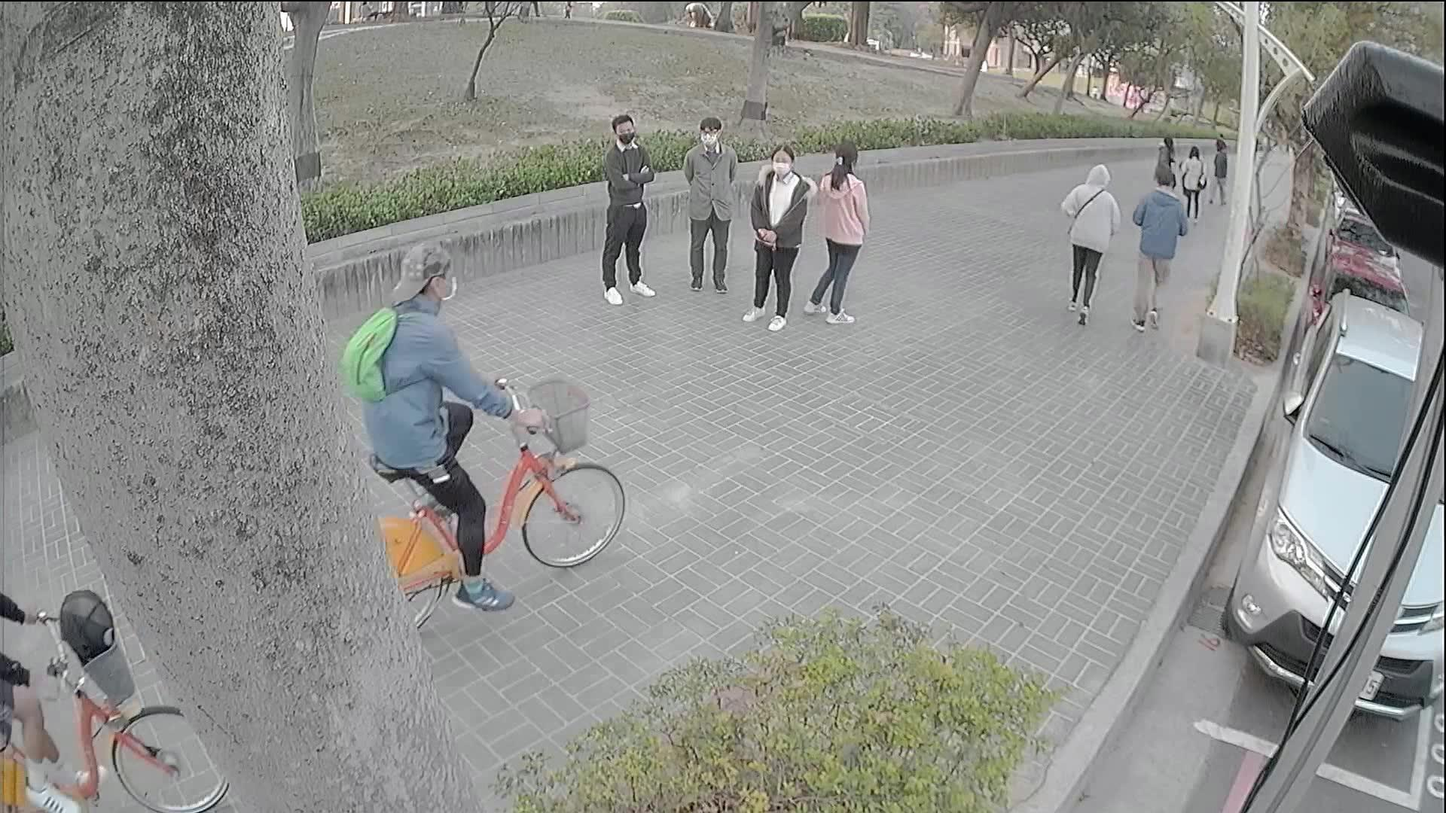person: (339, 228, 559, 619), (737, 136, 818, 340), (1058, 162, 1120, 324), (683, 114, 736, 293), (602, 114, 651, 303), (813, 148, 865, 323), (1131, 169, 1185, 327), (1182, 147, 1204, 221), (1152, 133, 1176, 190)
